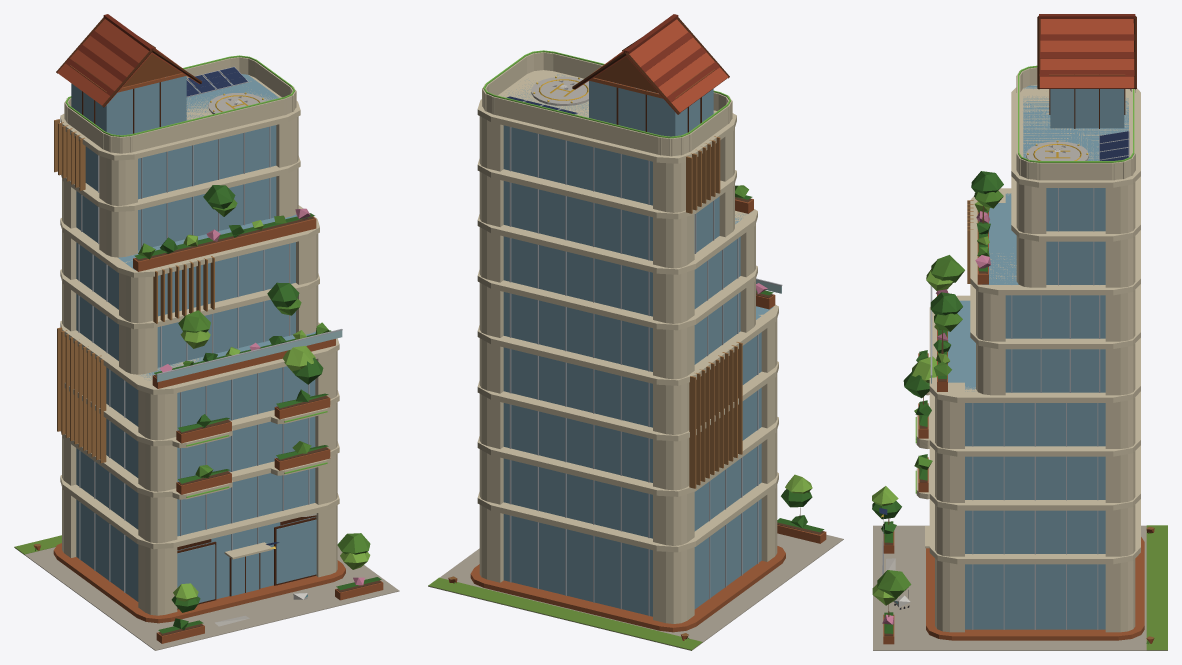
The model's file is shop_3.glb.
3 renders of one model, left to right at view 1: azimuth 30°, elevation 25°; view 2: azimuth 150°, elevation 25°; view 3: azimuth 270°, elevation 25°, orthographic. The views are drawn at different scales.
Visible parts, largest first — view 1: body, windows; view 2: body, windows; view 3: body, windows.
Part boxes in pixels (x1,y1,x2,y2): body: (14,14,399,650); windows: (65,55,327,597); body: (428,14,843,650); windows: (483,50,730,138); body: (872,14,1167,650); windows: (881,65,1134,603).
Bounding box in the file's own units: 15.9 × 33 × 15.95.
